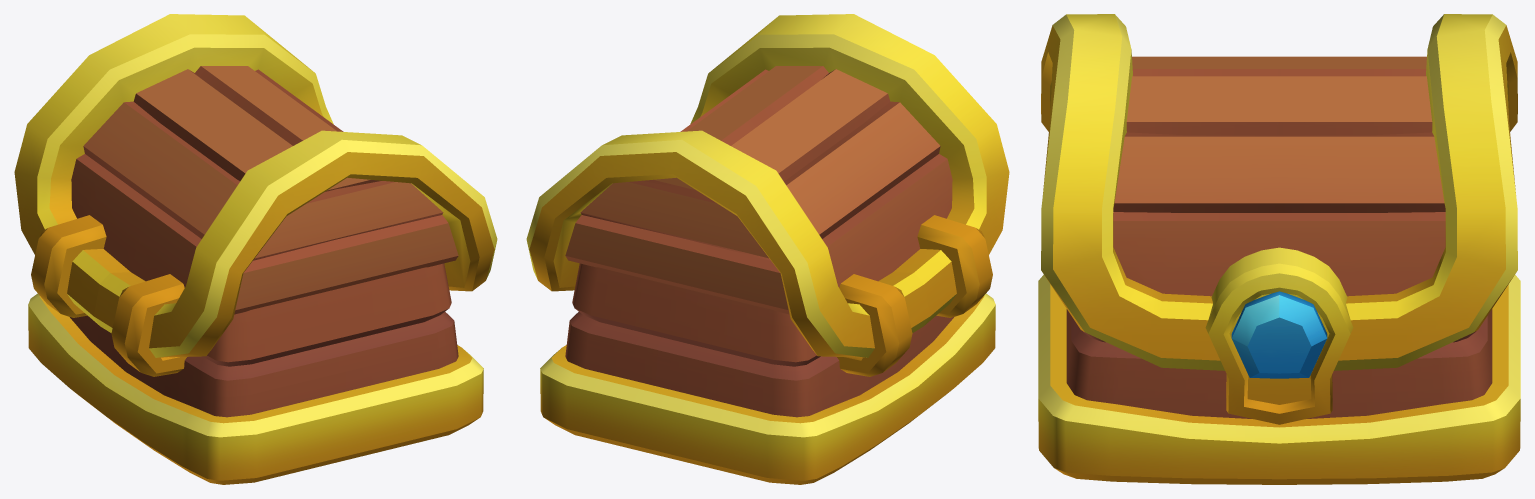
Rendered from ChestV2.fbx.
3 views of the same model, side by side, from view 1: azimuth 30°, elevation 25°; view 2: azimuth 150°, elevation 25°; view 3: azimuth 270°, elevation 25° (orthographic). The views are drawn at different scales.
Parts seen in each view (by area): view 1: Circle, Cube; view 2: Circle, Cube; view 3: Circle, Cube.
Part boxes in pixels (x1,y1,x2,y2): Circle: (14,14,497,376); Cube: (28,263,483,484); Circle: (526,14,1009,376); Cube: (540,263,995,484); Circle: (1041,14,1517,424); Cube: (1038,274,1520,484).
Size of the model in its own units: 4.45 by 3.67 by 4.31.
